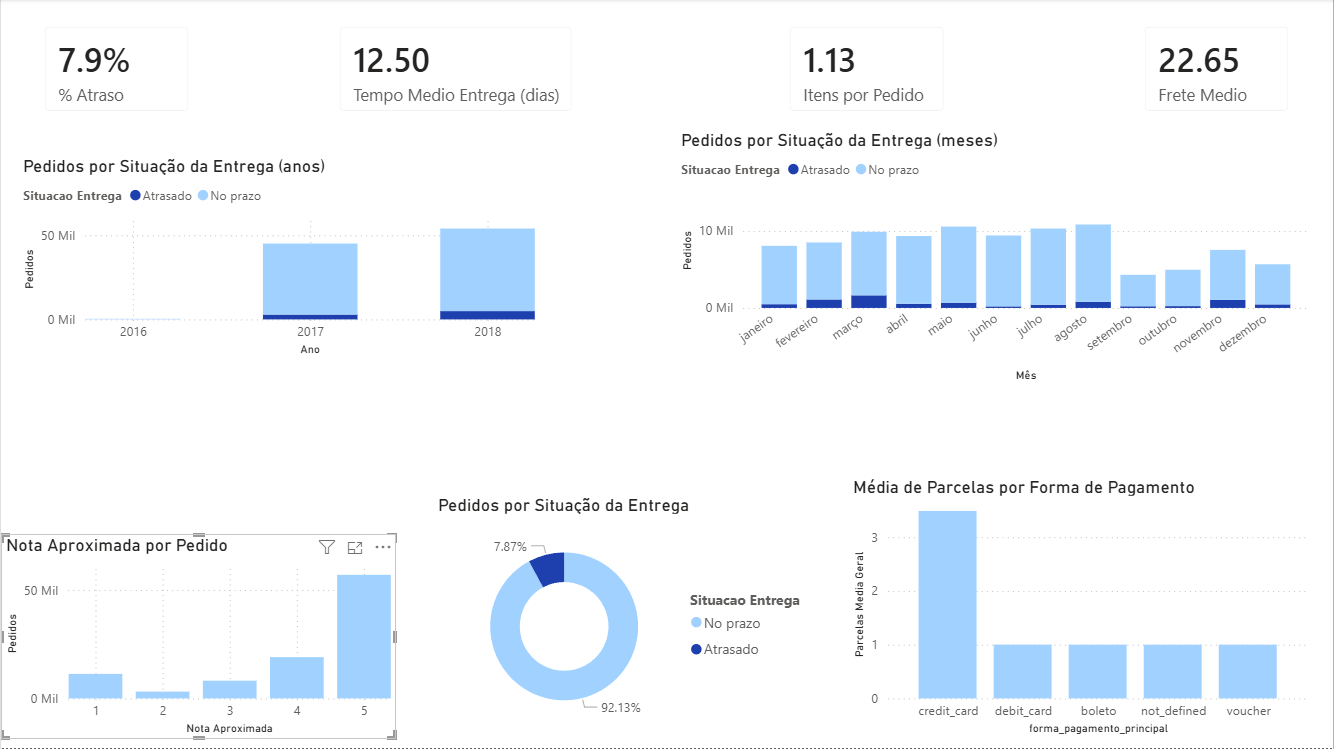

This screenshot's page, from the dashboard's own definition file:
{"tool":"powerbi","page":{"name":"Operação","canvas":[1280,720],"ordinal":2},"visuals":[{"type":"cardVisual","fields":{"Data":["vw_vendas.% Atraso"]},"box":[25,9.6,172,115.3],"z":0},{"type":"cardVisual","fields":{"Data":["vw_vendas.Frete Medio"]},"box":[1082,9.6,172,115.3],"z":1000},{"type":"cardVisual","fields":{"Data":["vw_vendas.Tempo Medio Entrega (dias)"]},"box":[308.5,9.6,257.5,115.3],"z":2000},{"type":"cardVisual","fields":{"Data":["vw_vendas.Itens por Pedido"]},"box":[740.9,9.6,182.6,115.3],"z":3000},{"type":"donutChart","title":"Pedidos por Situação da Entrega","fields":{"Category":["vw_vendas.Situacao Entrega"],"Y":["vw_vendas.Pedidos"]},"box":[415.1,475.7,368,235.4],"z":4000},{"type":"columnChart","title":"Pedidos por Situação da Entrega (meses)","fields":{"Series":["vw_vendas.Situacao Entrega"],"Category":["vw_vendas.data_pedido.Variation.Hierarquia de datas.Mês"],"Y":["vw_vendas.Pedidos"]},"box":[648.6,124.9,613.1,247],"z":5000},{"type":"columnChart","title":"Nota Aproximada por Pedido","fields":{"Category":["vw_vendas.Nota Aproximada"],"Y":["vw_vendas.Pedidos"]},"box":[0,514.1,379.6,197],"z":6000},{"type":"columnChart","title":"Pedidos por Situação da Entrega (anos)","fields":{"Category":["vw_vendas.data_pedido.Variation.Hierarquia de datas.Ano"],"Series":["vw_vendas.Situacao Entrega"],"Y":["vw_vendas.Pedidos"]},"box":[16.3,149.9,501.6,197],"z":7000},{"type":"columnChart","title":"Média de Parcelas por Forma de Pagamento","fields":{"Category":["vw_vendas.forma_pagamento_principal"],"Y":["vw_vendas.Parcelas Media Geral"]},"box":[813.9,458.4,447.8,252.7],"z":8000}]}

Visuals, with their boxes in screenshot pixels (x1, y1, x2, y2), scaled from the page's 1280x720 canvas onto the 1334x749 screenshot:
cardVisual - vw_vendas.% Atraso: box(26, 10, 205, 130)
cardVisual - vw_vendas.Frete Medio: box(1128, 10, 1307, 130)
cardVisual - vw_vendas.Tempo Medio Entrega (dias): box(322, 10, 590, 130)
cardVisual - vw_vendas.Itens por Pedido: box(772, 10, 962, 130)
"Pedidos por Situação da Entrega" donutChart: box(433, 495, 816, 740)
"Pedidos por Situação da Entrega (meses)" columnChart: box(676, 130, 1315, 387)
"Nota Aproximada por Pedido" columnChart: box(0, 535, 396, 740)
"Pedidos por Situação da Entrega (anos)" columnChart: box(17, 156, 540, 361)
"Média de Parcelas por Forma de Pagamento" columnChart: box(848, 477, 1315, 740)
